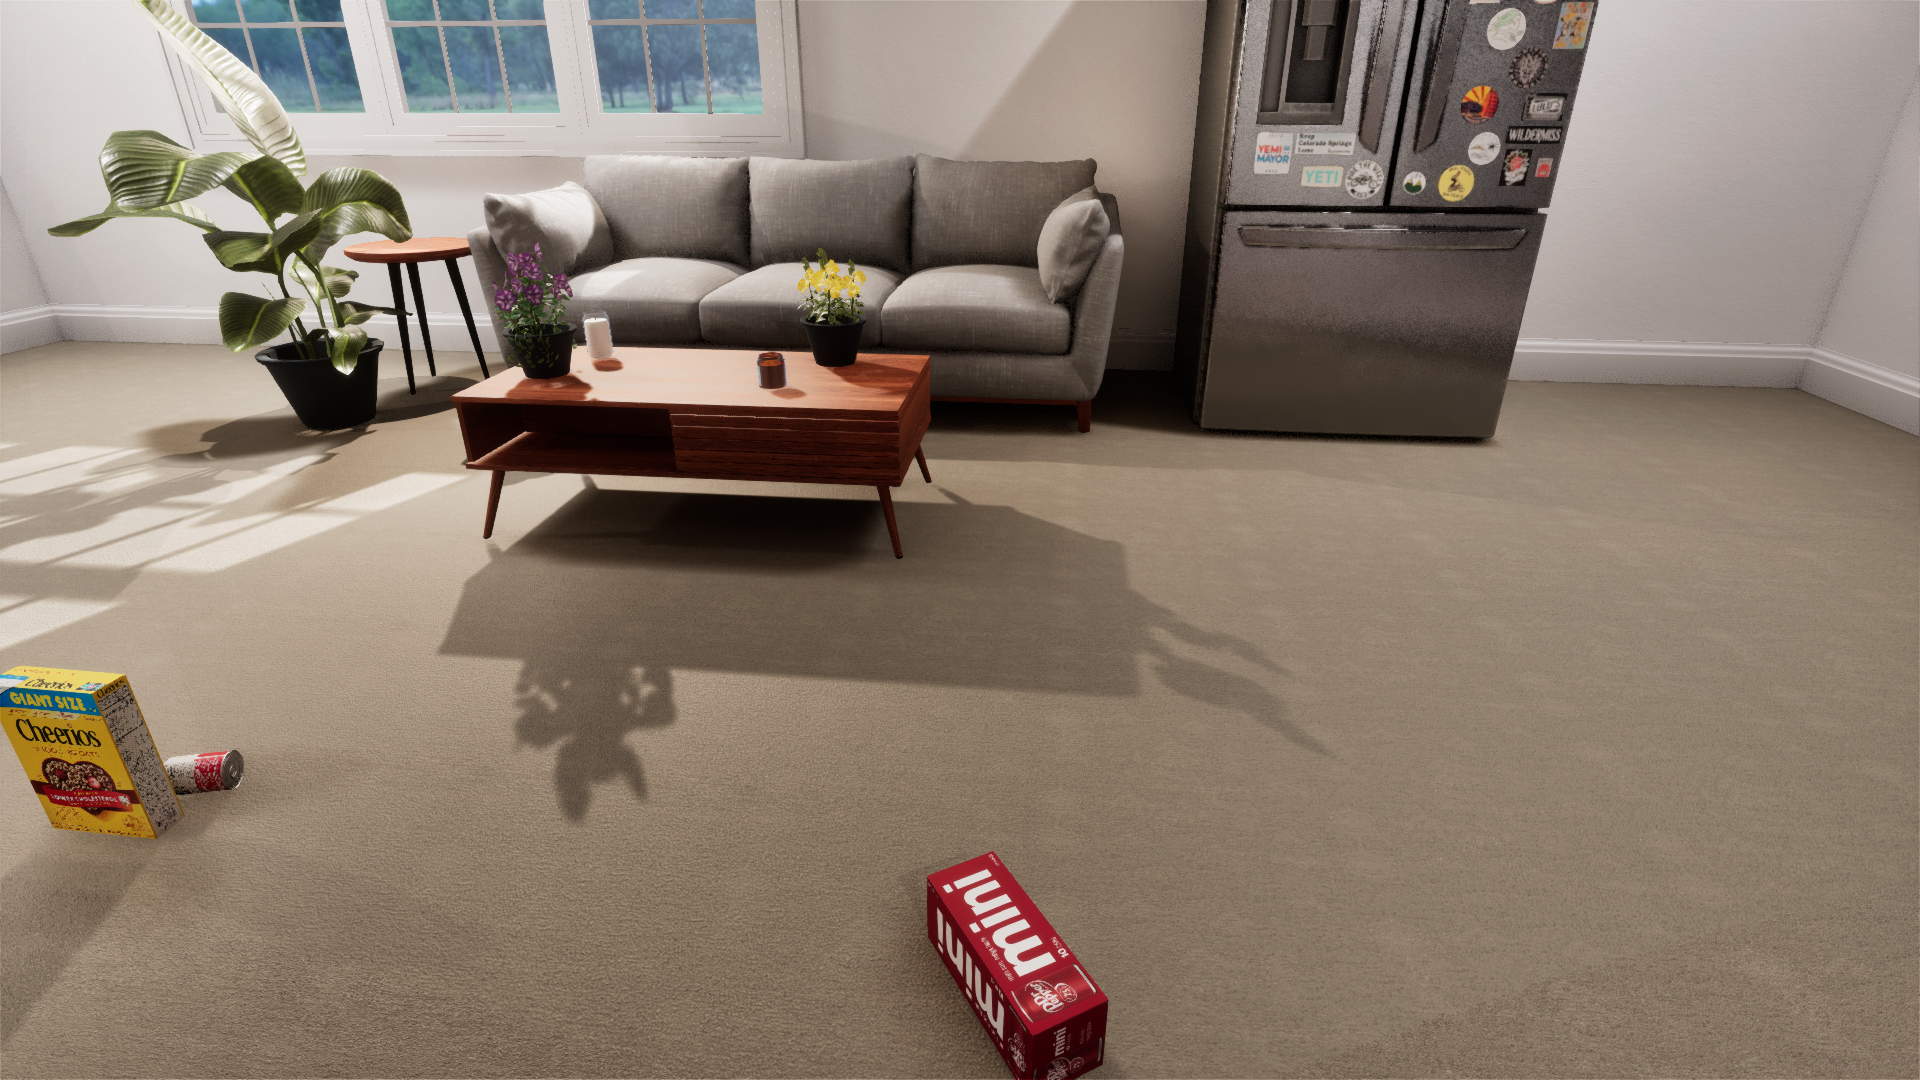soup: (1626, 779, 1920, 963)
